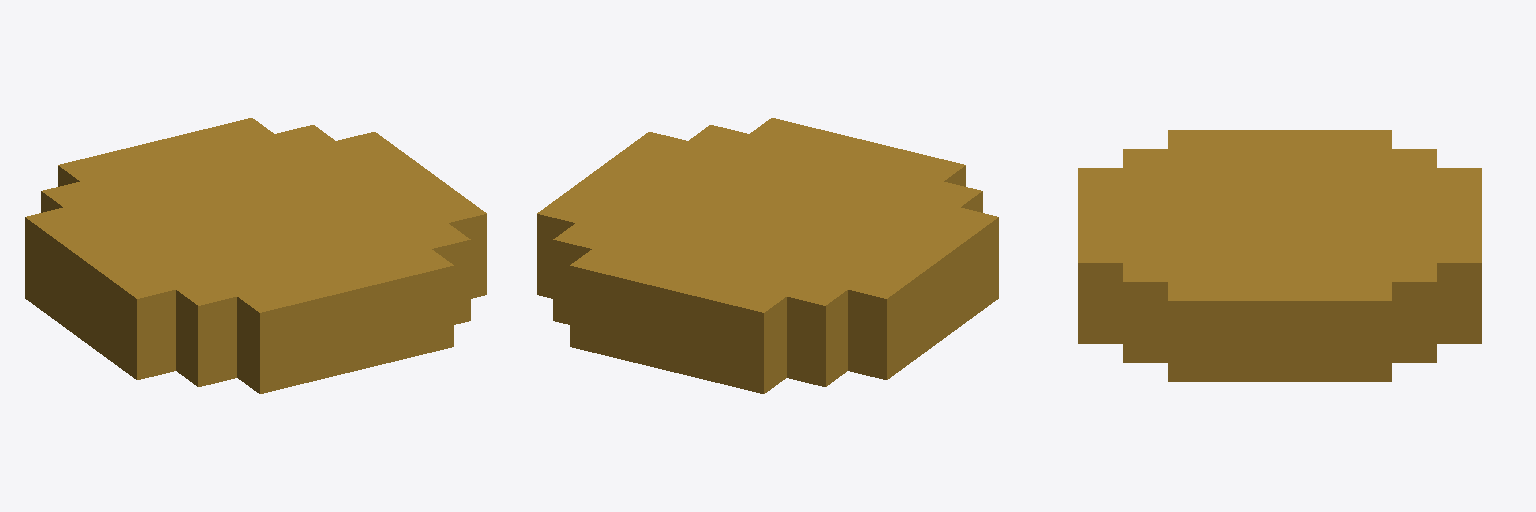
Rendered from burger_bottom_bun.obj.
The picture shows the model from 3 angles: view 1: azimuth 30°, elevation 25°; view 2: azimuth 150°, elevation 25°; view 3: azimuth 270°, elevation 25°; orthographic projection.
Parts seen in each view (by area): view 1: model_0; view 2: model_0; view 3: model_0.
Boxes of the visible parts, x1=… form: model_0: x1=25, y1=118, x2=486, y2=393; model_0: x1=537, y1=118, x2=998, y2=393; model_0: x1=1078, y1=130, x2=1481, y2=381.
Bounding box in the file's own units: 0.9 × 0.2 × 0.9.